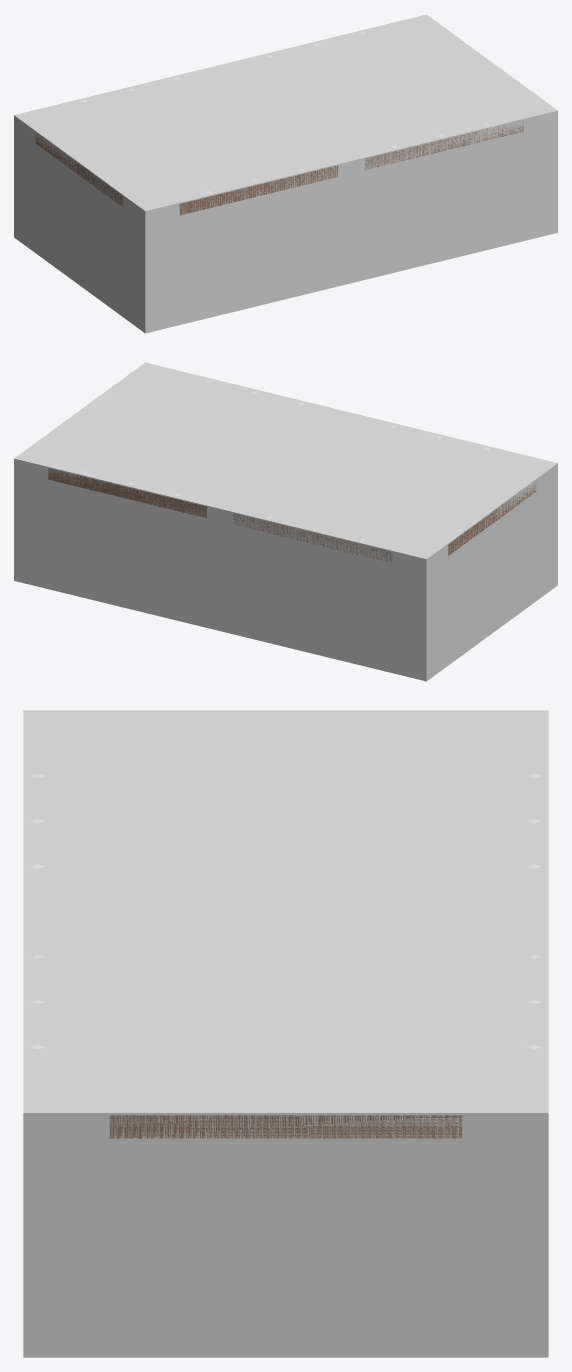
The model's file is pool_table.glb.
The picture shows the model from 3 angles, top to bottom: view 1: azimuth 30°, elevation 25°; view 2: azimuth 150°, elevation 25°; view 3: azimuth 270°, elevation 25°; orthographic projection. The views are drawn at different scales.
Parts seen in each view (by area): view 1: PoolTable_COL, pool-table_0; view 2: PoolTable_COL, pool-table_0; view 3: PoolTable_COL, pool-table_0.
Part boxes in pixels (left/top/right/bottom): PoolTable_COL: left=14, top=14, right=557, bottom=333; pool-table_0: left=35, top=122, right=523, bottom=215; PoolTable_COL: left=14, top=362, right=557, bottom=681; pool-table_0: left=48, top=468, right=536, bottom=562; PoolTable_COL: left=23, top=710, right=548, bottom=1357; pool-table_0: left=109, top=1115, right=462, bottom=1138.
Bounding box in the file's own units: 2.83 × 0.8014 × 1.56.
